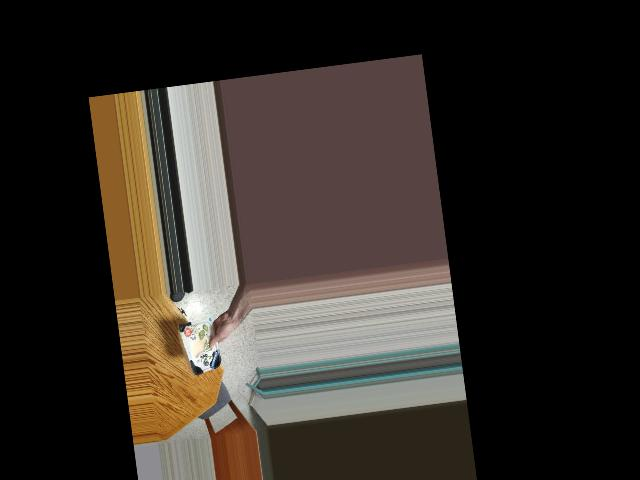cheese: (174, 313, 232, 376)
